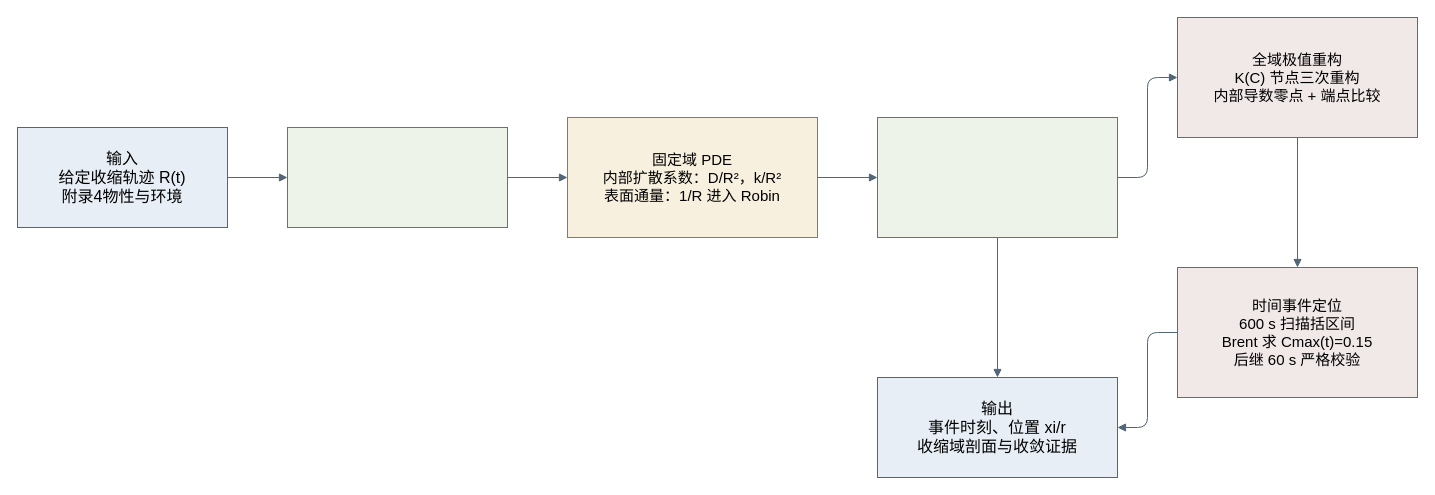
This 1435x495 diagram has some shape labels left out. The centre of each missing label's shape, as x and y in pixels:
FVM + 联合 BDF 热-质状态同步更新 表面未知量用 Brent 求解: the point at 997,177
材料坐标变换 xi = r / R(t) 0 ≤ xi ≤ 1: the point at 397,177
